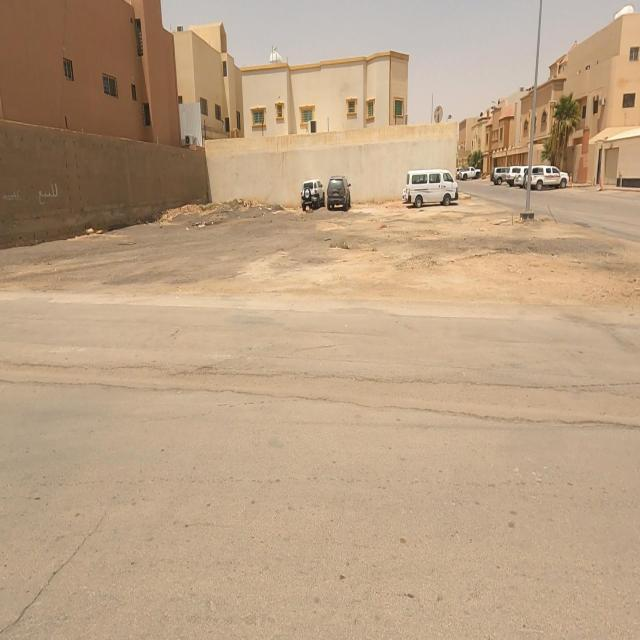Graffiti: (39, 182, 61, 207), (2, 187, 22, 208)
